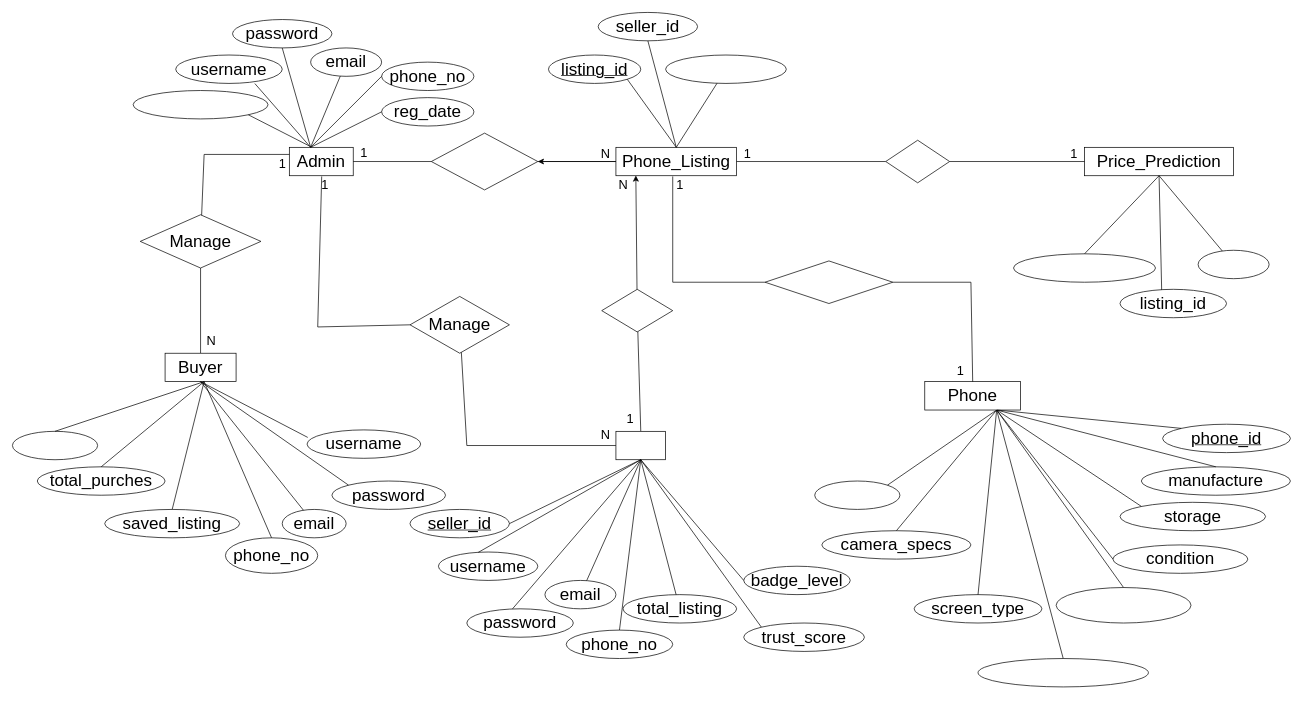
The diagram is 1303 pixels wide and 705 high, and some of its shapes have lost their labels. Here are the shapes that lost their labels. From the top down, the box of each, then its label:
(665, 54, 786, 83): listing_date
(132, 90, 268, 119): admin_id
(431, 132, 538, 190): Moderate
(885, 140, 950, 183): has
(764, 260, 893, 304): Provides
(1013, 253, 1156, 282): prediction_id
(1197, 250, 1269, 279): price
(601, 289, 673, 332): List
(12, 431, 98, 460): buyer_id
(615, 431, 666, 460): Seller
(814, 480, 900, 509): model
(1055, 587, 1191, 623): usage_time
(977, 658, 1148, 687): battery_capacity
